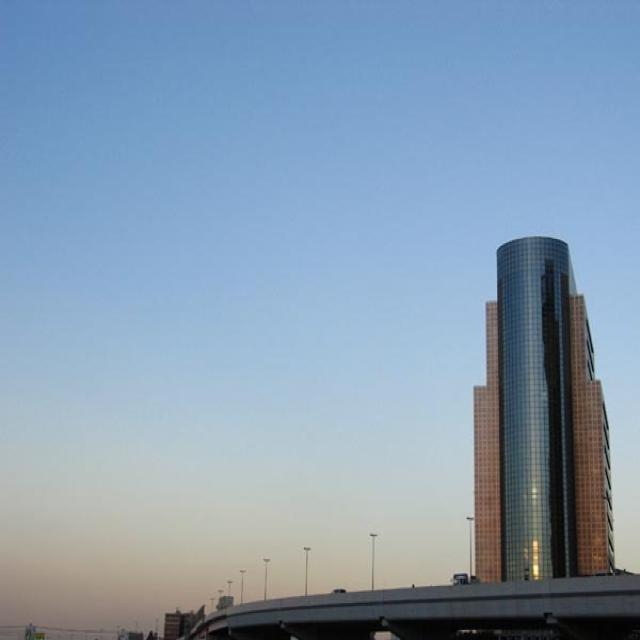building: (474, 229, 615, 588)
